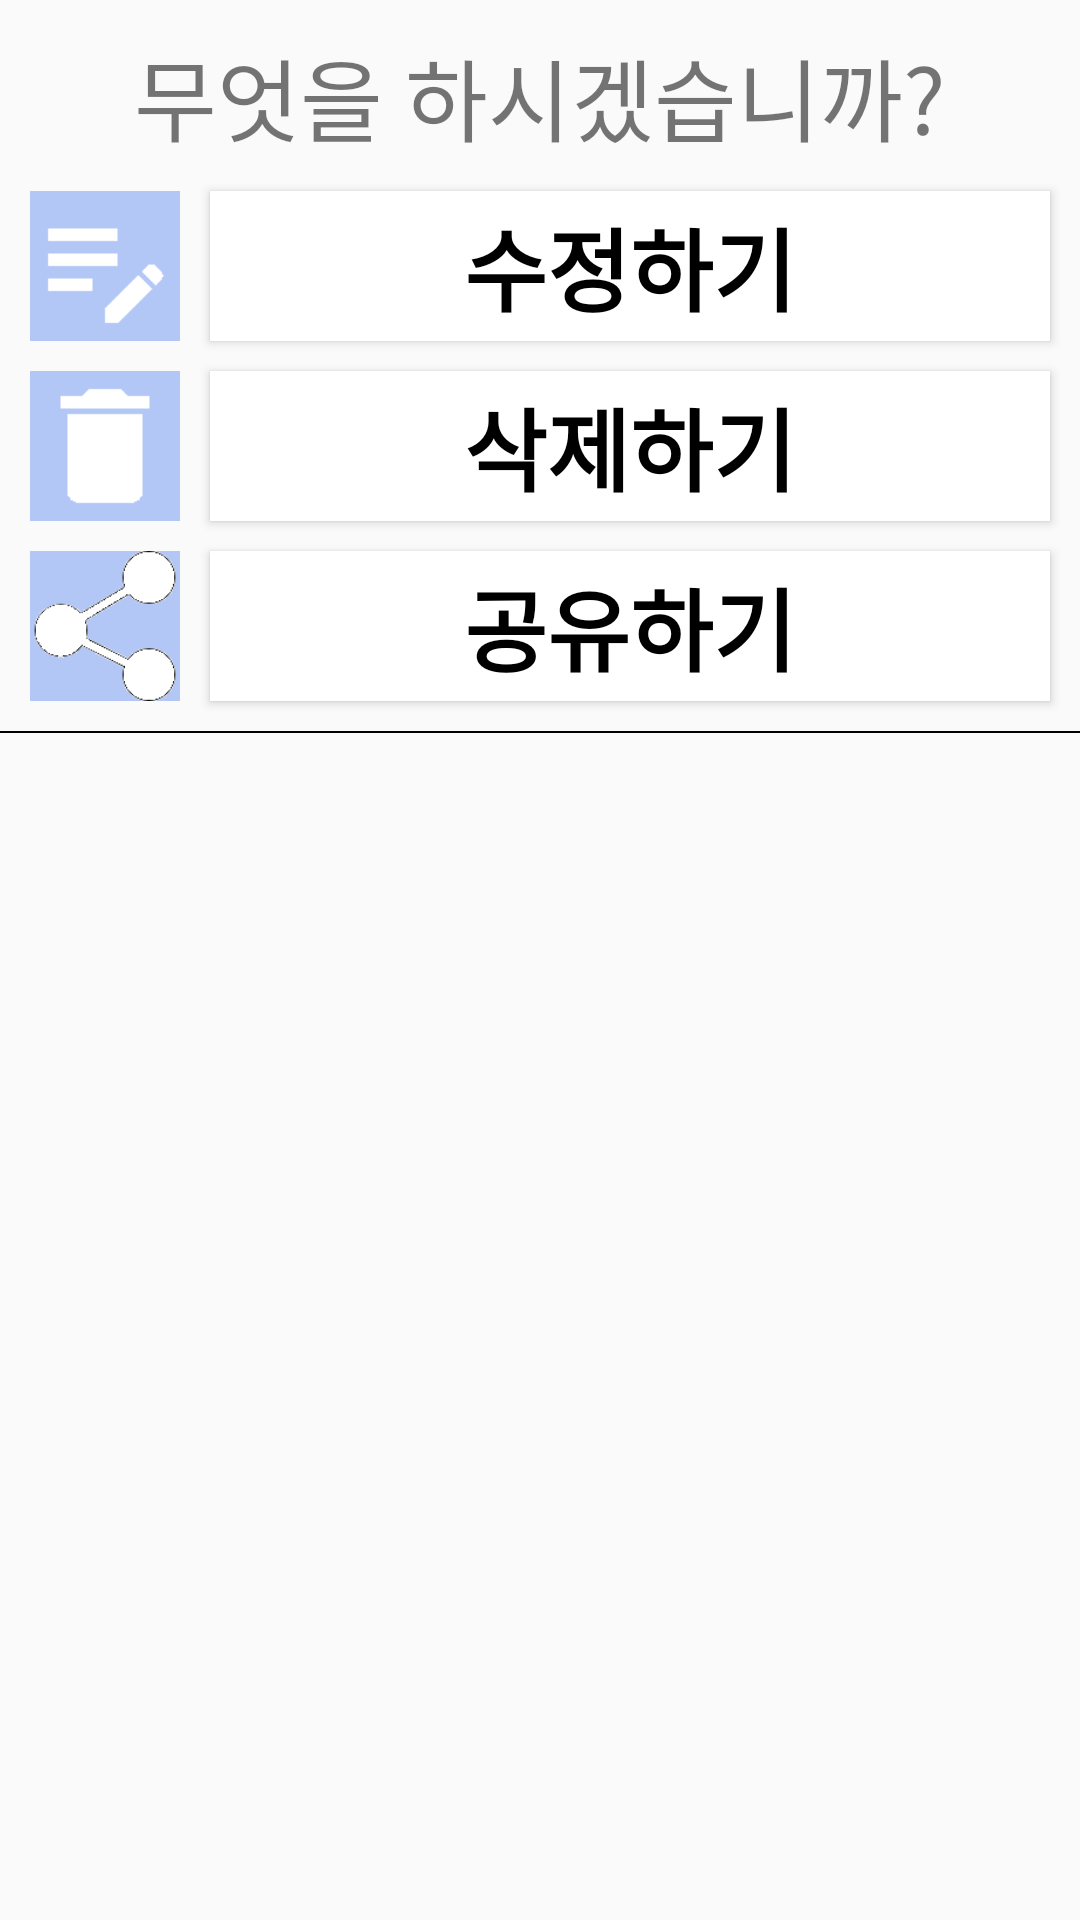

Icon bounding boxes for this 1080px×1920px phone screenshot, format (x1=x1, y1=y1, x2=x2, y2=y2):
delete: (x1=30, y1=371, x2=180, y2=521)
edit: (x1=30, y1=191, x2=180, y2=341)
share: (x1=30, y1=551, x2=180, y2=701)
